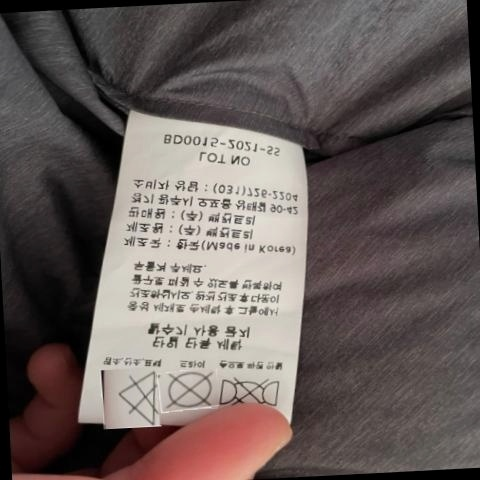DN_bleach: (107, 370, 160, 426)
DN_dry_clean: (165, 369, 213, 410)
DN_wring: (219, 370, 283, 409)
